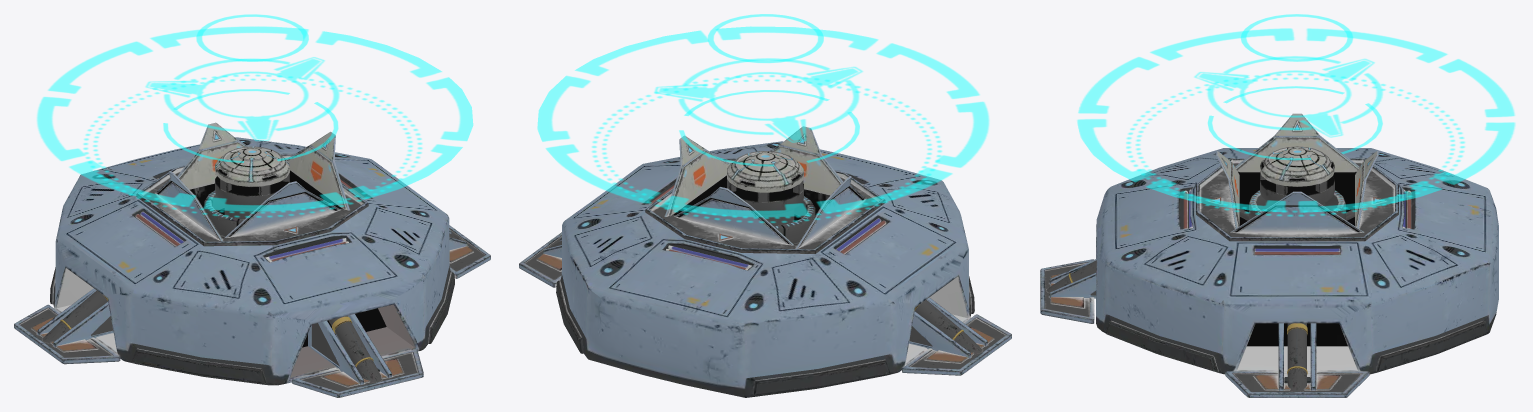
Rendered from hologram_projector_with_hologram.glb.
3 views of the same model, side by side, from view 1: azimuth 30°, elevation 25°; view 2: azimuth 150°, elevation 25°; view 3: azimuth 270°, elevation 25° (orthographic). The views are drawn at different scales.
Parts seen in each view (by area): view 1: Cube, Cylinder.218, Cylinder.220, Cylinder.219, Cylinder.221, Cylinder.222; view 2: Cube, Cylinder.218, Cylinder.220, Cylinder.219, Cylinder.221, Cylinder.222; view 3: Cube, Cylinder.218, Cylinder.220, Cylinder.219, Cylinder.221, Cylinder.222.
Boxes of the visible parts, box(x1,y1,x2,y2) form: Cube: box(14, 122, 490, 397); Cylinder.218: box(37, 26, 473, 211); Cylinder.220: box(145, 57, 339, 140); Cylinder.219: box(83, 74, 422, 217); Cylinder.221: box(163, 89, 338, 162); Cylinder.222: box(196, 14, 308, 61); Cube: box(519, 126, 1011, 397); Cylinder.218: box(537, 26, 989, 217); Cylinder.220: box(654, 58, 862, 142); Cylinder.219: box(592, 75, 941, 222); Cylinder.221: box(679, 90, 859, 166); Cylinder.222: box(707, 14, 823, 62); Cube: box(1040, 113, 1498, 397); Cylinder.218: box(1077, 28, 1515, 212); Cylinder.220: box(1194, 56, 1382, 137); Cylinder.219: box(1126, 73, 1464, 216); Cylinder.221: box(1208, 86, 1382, 160); Cylinder.222: box(1241, 14, 1352, 61).
Size of what is drawn, in the model's own units: 1.69 by 0.9761 by 1.63.
Materials: 2 (2 with a texture image).
